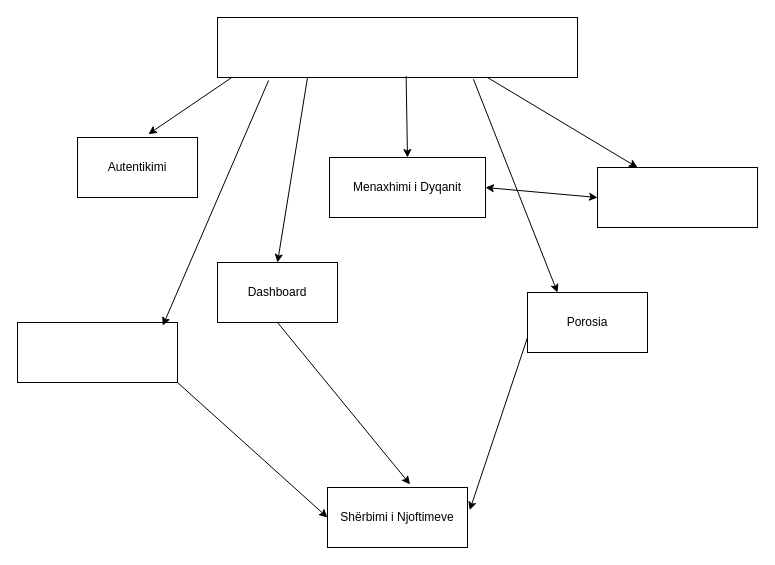
This 775x565 diagram has some shape labels left out. The shapes that lost their labels are listed below. From the top down, each one's centre as x and y in pixels, then its label:
At [397,47]: "USER INTERFACE".
At [677,197]: "Shërbimi i Produkteve".
At [97,352]: "Shërbimi i Transportit".
